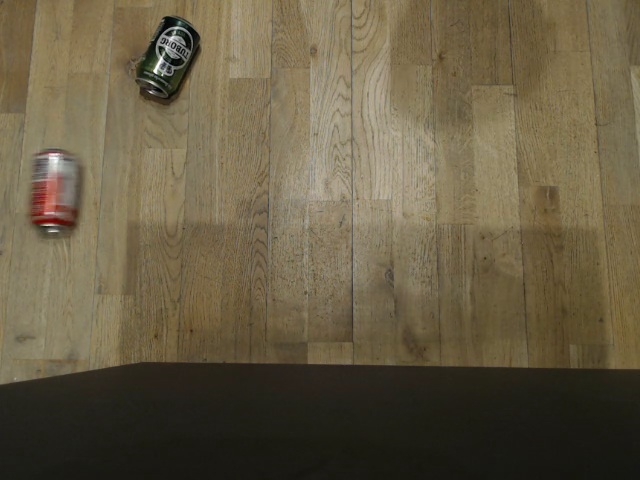beer: (131, 11, 204, 102)
cola: (28, 145, 82, 232)
